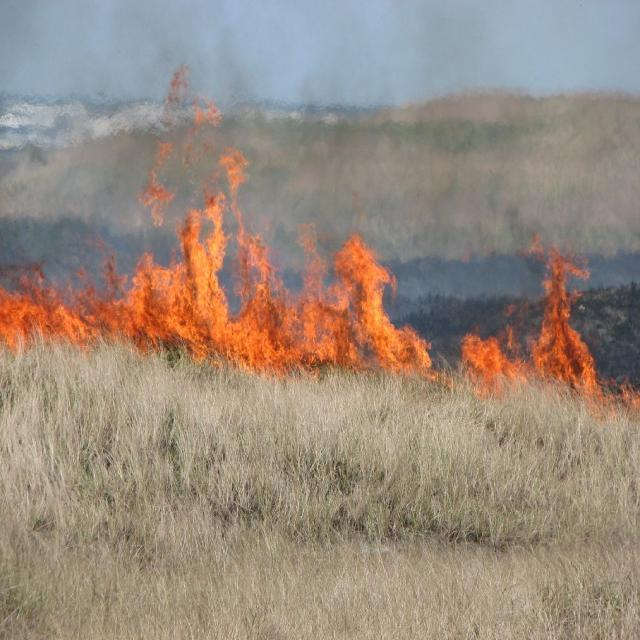Fire: (0, 135, 634, 422)
